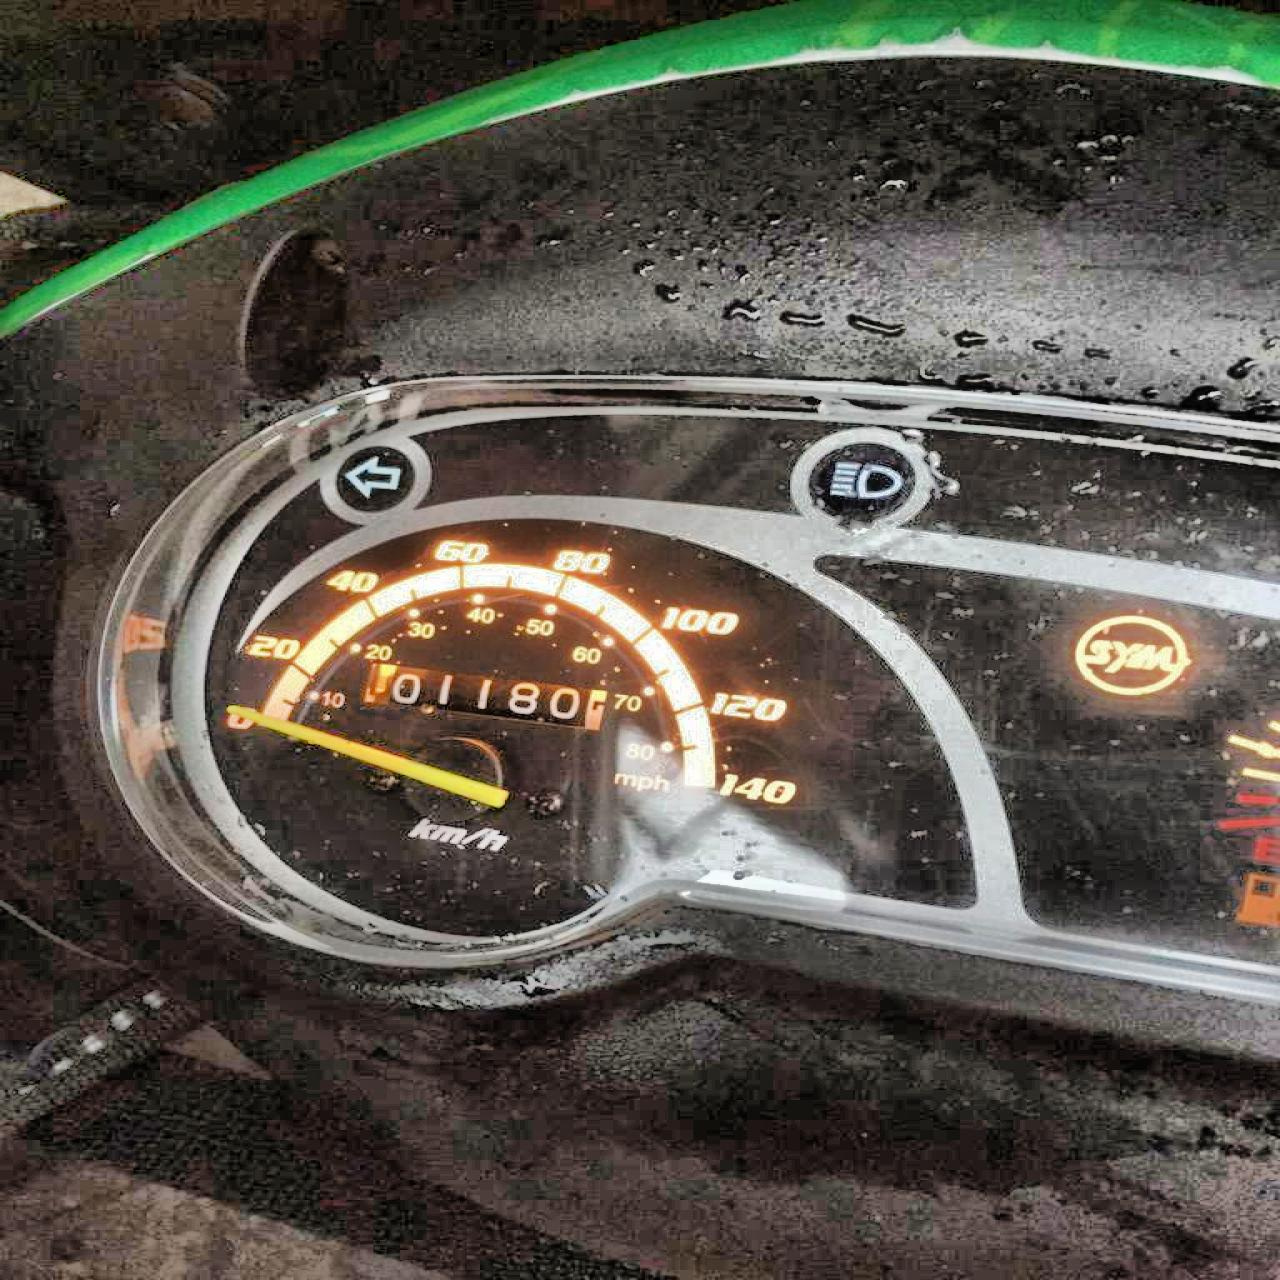0: (546, 682, 581, 722), (388, 670, 423, 708)
1: (431, 667, 456, 716), (470, 672, 495, 719)
7: (588, 686, 608, 729)
8: (505, 679, 538, 716)
odometer: (355, 660, 612, 731)
